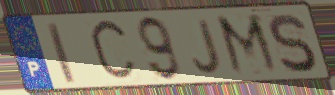9: (135, 14, 182, 83)
C: (87, 16, 140, 86)
I: (44, 20, 79, 86)
J: (190, 17, 223, 76)
M: (213, 12, 284, 79)
S: (266, 11, 318, 75)
